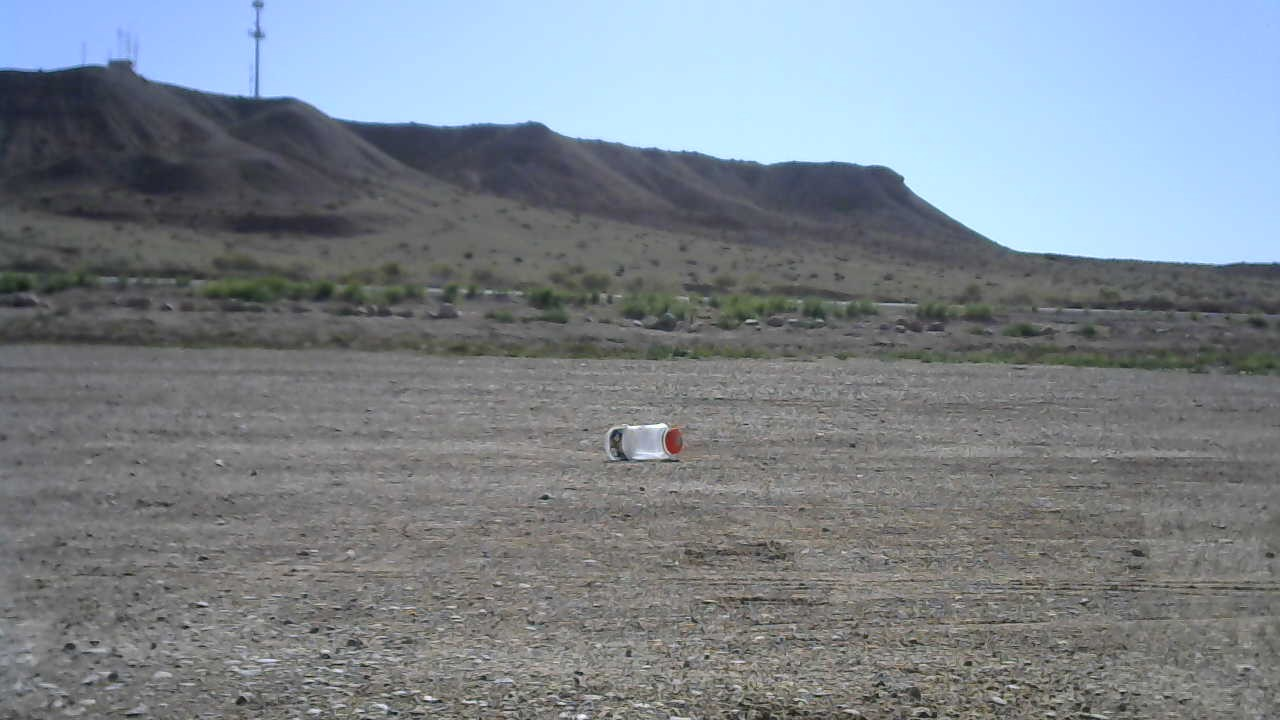bottle: (598, 421, 688, 461)
